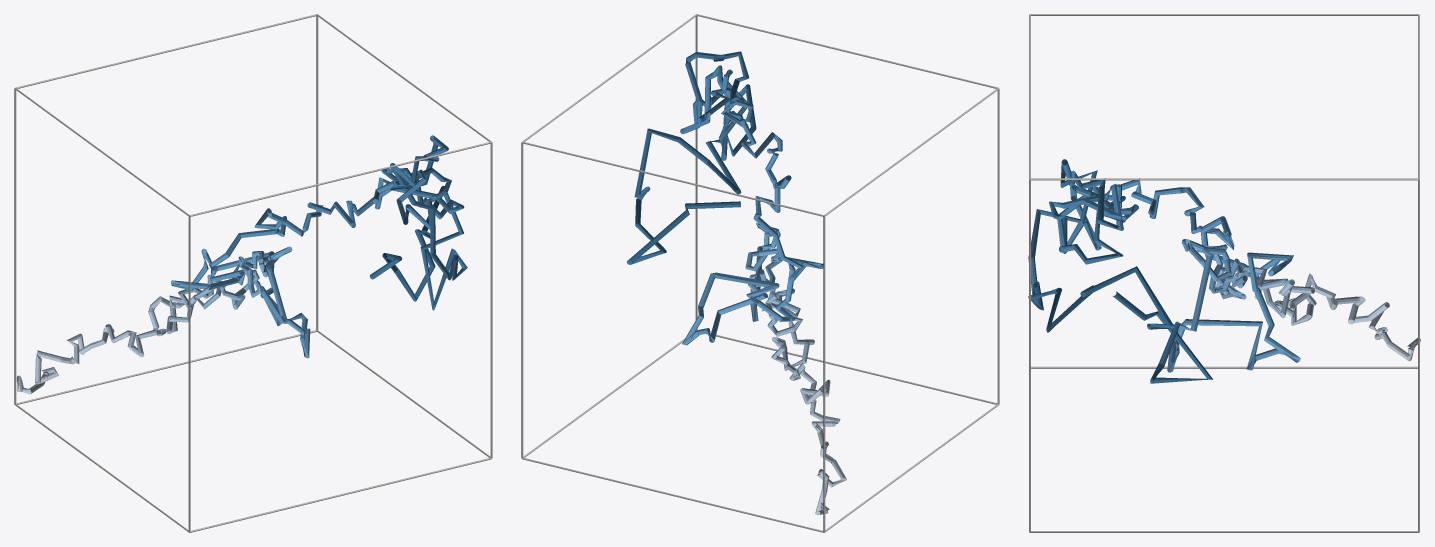
3 renders of one model, left to right at view 1: azimuth 30°, elevation 25°; view 2: azimuth 150°, elevation 25°; view 3: azimuth 270°, elevation 25°, orthographic. The views are drawn at different scales.
Parts seen in each view (by area): view 1: geometry_0, geometry_1; view 2: geometry_0, geometry_1; view 3: geometry_0, geometry_1.
Part boxes in pixels (box(x1,y1,x2,y2)): geometry_0: box(16, 135, 467, 394); geometry_1: box(14, 14, 492, 532); geometry_0: box(626, 51, 846, 515); geometry_1: box(521, 14, 999, 532); geometry_0: box(1028, 159, 1420, 383); geometry_1: box(1029, 14, 1419, 532).
Bounding box in the file's own units: 0.3046 × 0.3014 × 0.303.
